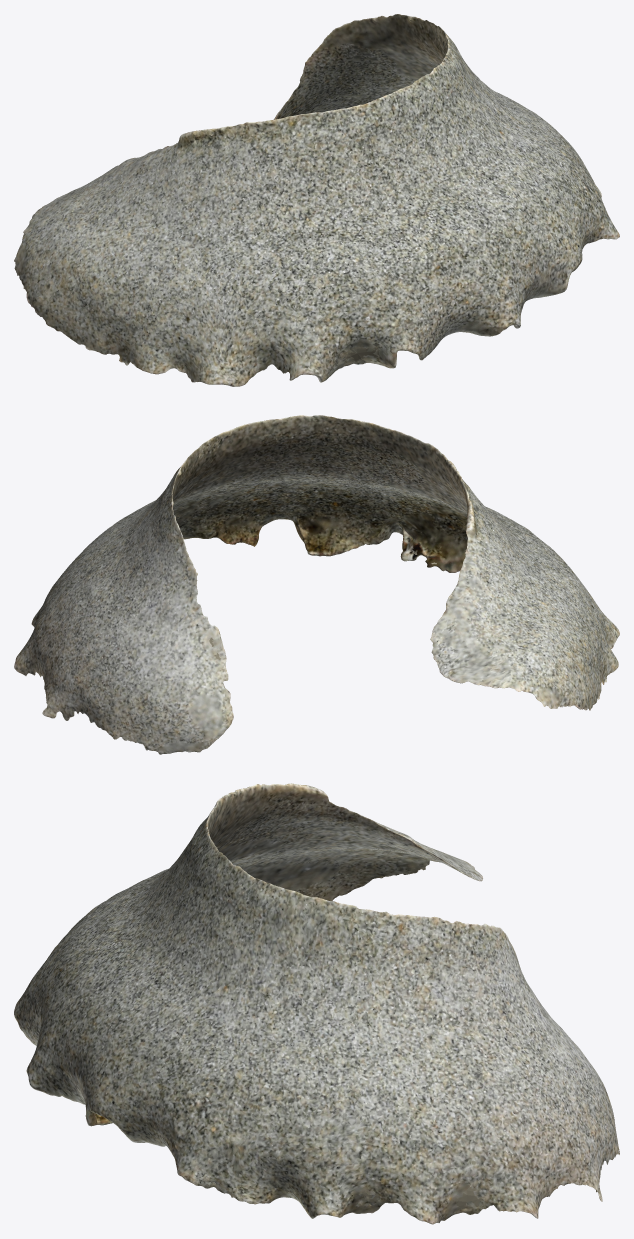
The model's file is MZUR3D-057.glb.
3 renders of one model, top to bottom at view 1: azimuth 30°, elevation 25°; view 2: azimuth 150°, elevation 25°; view 3: azimuth 270°, elevation 25°, orthographic. The views are drawn at different scales.
Visible parts, largest first — view 1: MZUR3D-057; view 2: MZUR3D-057; view 3: MZUR3D-057.
Part boxes in pixels (box(x1,y1,x2,y2)): MZUR3D-057: box(14, 14, 619, 386); MZUR3D-057: box(14, 415, 619, 754); MZUR3D-057: box(14, 783, 619, 1224).
Bounding box in the file's own units: 2.93 × 1.22 × 2.39.
Materials: 1 (1 with a texture image).
